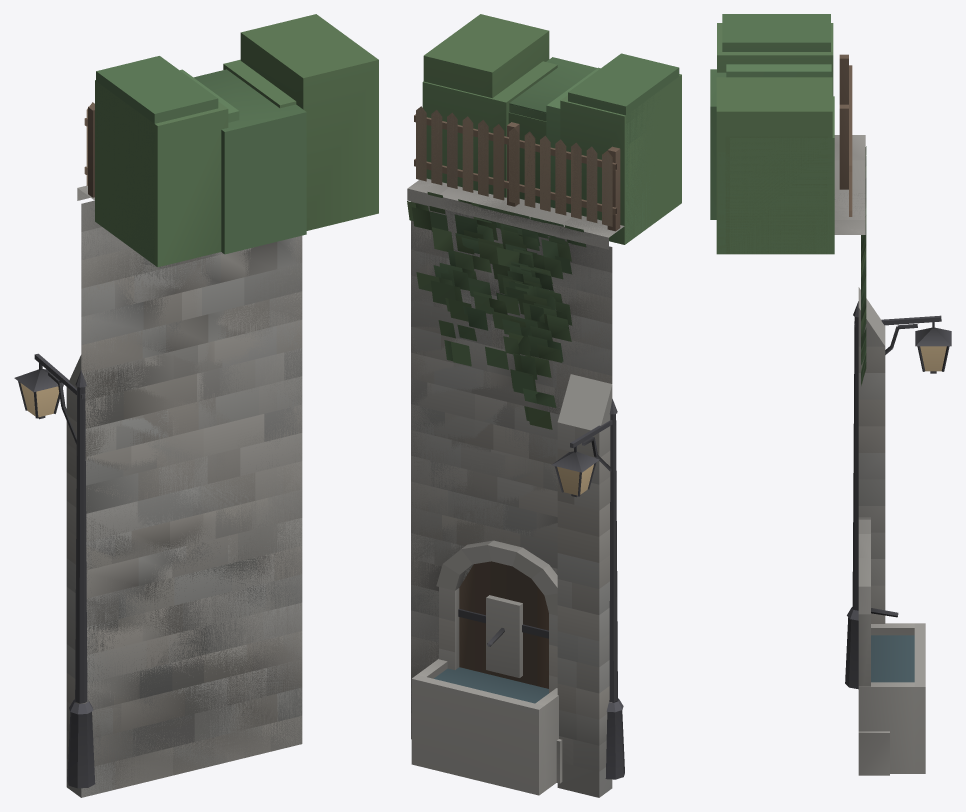
Rendered from props.glb.
3 views of the same model, side by side, from view 1: azimuth 30°, elevation 25°; view 2: azimuth 150°, elevation 25°; view 3: azimuth 270°, elevation 25° (orthographic). The views are drawn at different scales.
Parts seen in each view (by area): view 1: wall_gate, wall_trough, wall_pier, wall_plain, lamp_post; view 2: wall_gate, wall_trough, wall_pier, wall_plain, lamp_post; view 3: wall_trough, wall_gate, wall_pier, lamp_post, wall_plain.
Boxes of the visible parts, x1,y1,x2,y2 form: wall_gate: (77,59,302,797); wall_trough: (81,14,378,794); wall_pier: (66,69,302,797); wall_plain: (77,102,302,795); lamp_post: (14,353,95,788); wall_gate: (407,61,681,783); wall_trough: (407,14,679,795); wall_pier: (407,67,655,797); wall_plain: (407,106,650,730); lamp_post: (551,399,624,779); wall_trough: (710,14,925,773); wall_gate: (717,23,889,775); wall_pier: (725,64,885,623); lamp_post: (845,301,951,689); wall_plain: (717,152,866,363).
Bounding box in the file's own units: 3.23 × 9.59 × 3.06.
